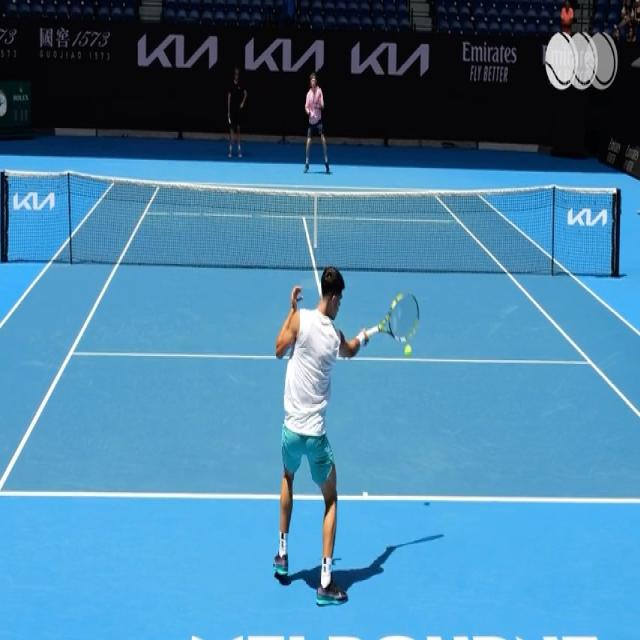backhand-stroke: (275, 275, 425, 595)
